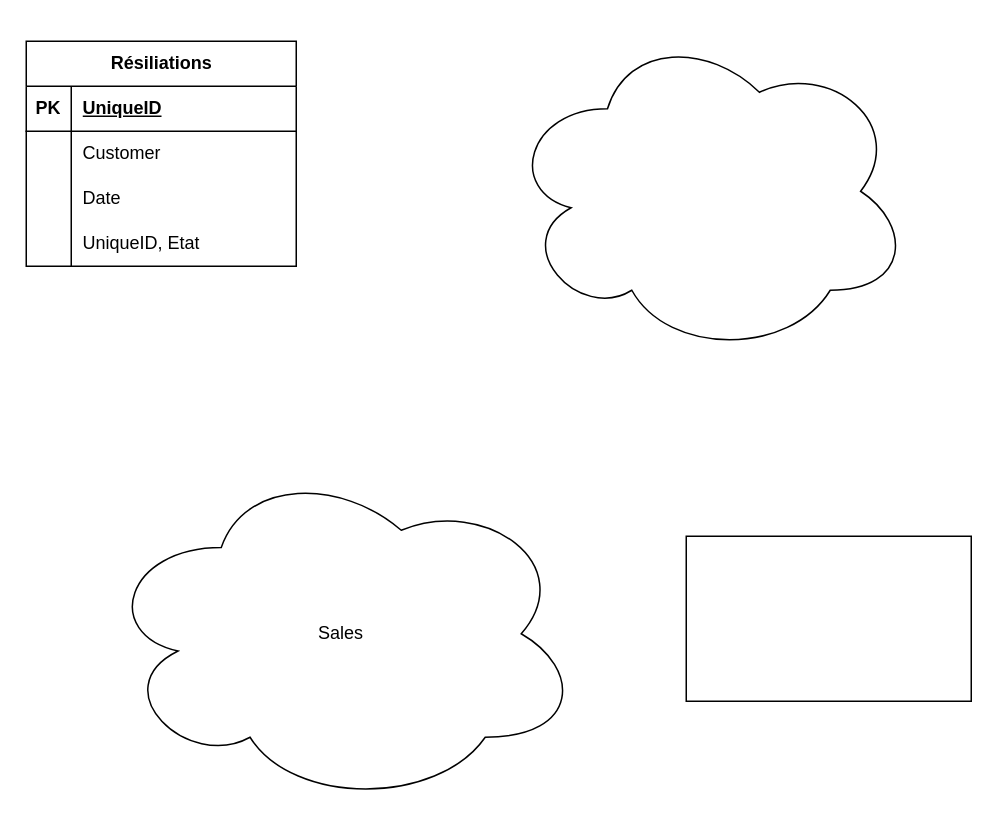
This 998x833 diagram has some shape labels left out. The centre of each missing label's shape, as x and y in pixels:
"Customer Service" belongs at (x=708, y=190).
"Power portal pour les résiliations" belongs at (x=828, y=618).
